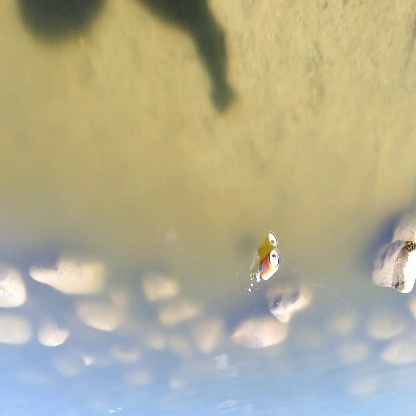bottle: (253, 248, 283, 287)
